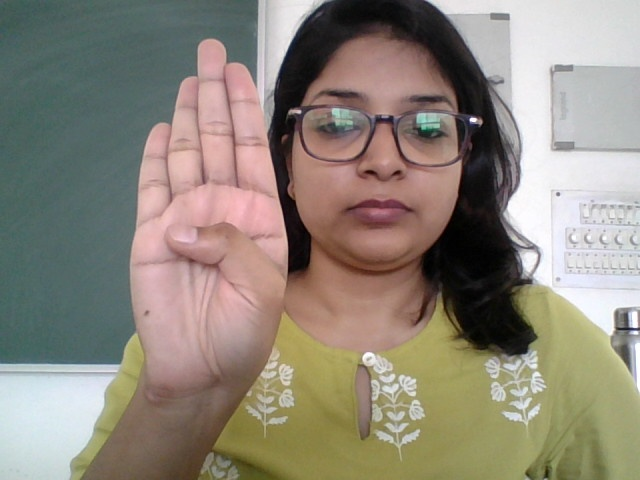B: (116, 34, 311, 425)
